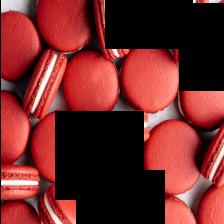red: (142, 120, 202, 195), (119, 41, 179, 114)
